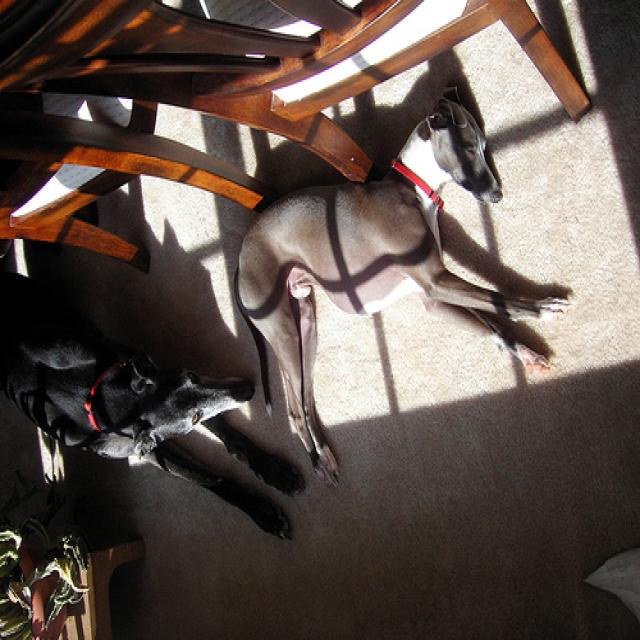chair: (1, 1, 594, 187), (1, 1, 285, 274)
dog: (235, 85, 567, 486), (1, 269, 307, 544)
